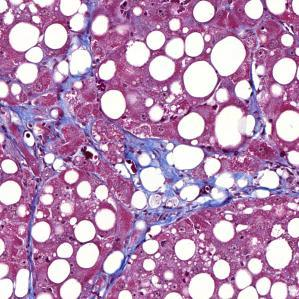fibrosis: (121, 147, 217, 220)
